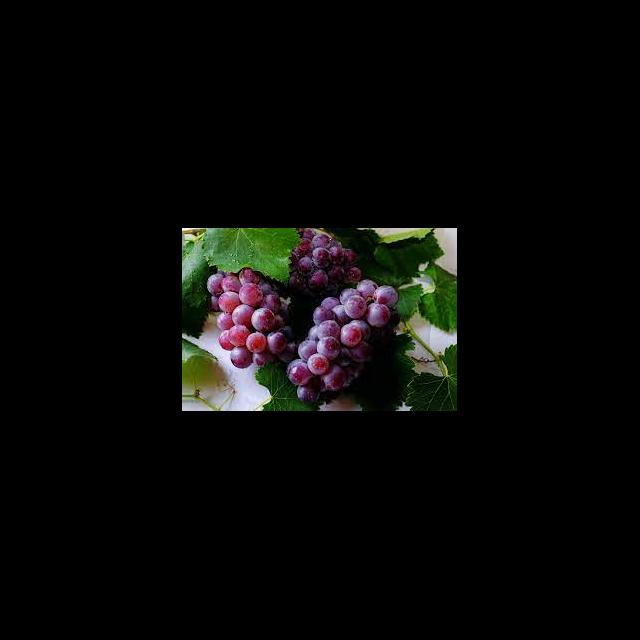grape: (207, 228, 400, 404), (286, 278, 399, 404), (206, 268, 292, 368), (288, 228, 362, 296)
